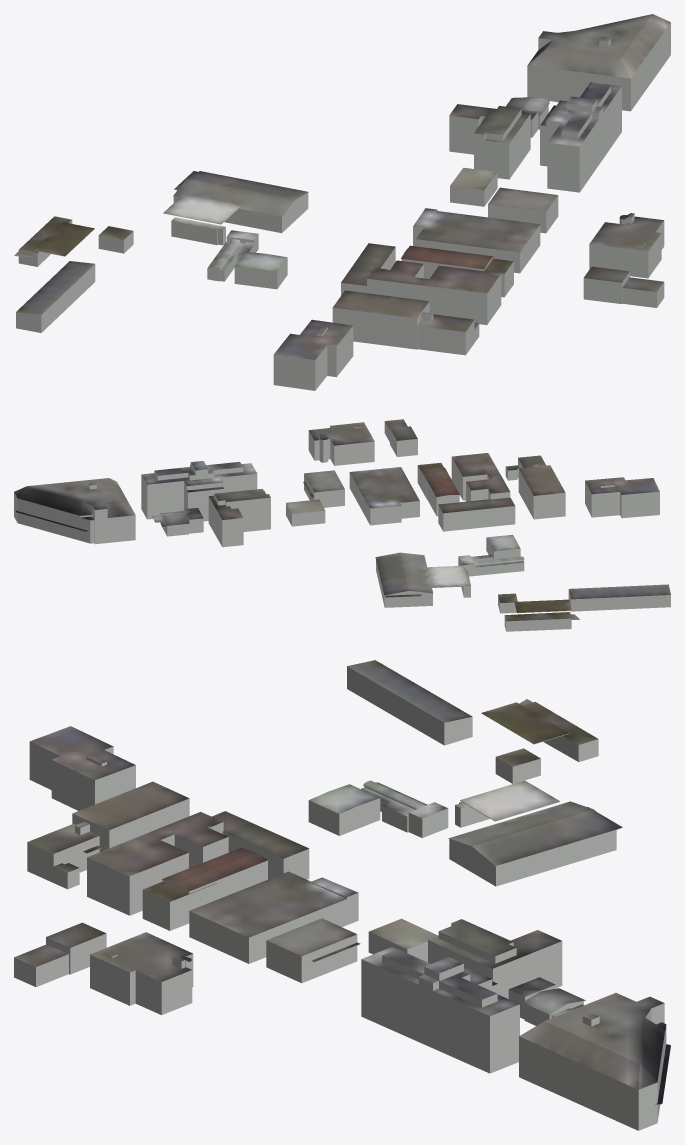
Rendered from LSZH_2_-5.glb.
3 renders of one model, top to bottom at view 1: azimuth 30°, elevation 25°; view 2: azimuth 150°, elevation 25°; view 3: azimuth 270°, elevation 25°, orthographic. The views are drawn at different scales.
Parts seen in each view (by area): view 1: building_c7800928f448700d, building_9811bbb75692ce36, building_c52892c318065b10, building_3fe551add44f6f5d, building_9d91a7fc6ffdc891, building_737cd1d2e4ba5a8d, building_a61981d5ffa7d013, building_e6580b542d869714, building_f2eeeba9485fdb26, building_b75e1be9039cc661; view 2: building_c7800928f448700d, building_9811bbb75692ce36, building_3fe551add44f6f5d, building_9d91a7fc6ffdc891, building_c52892c318065b10, building_737cd1d2e4ba5a8d, building_a61981d5ffa7d013, building_f2eeeba9485fdb26, building_e6580b542d869714, building_b75e1be9039cc661; view 3: building_9811bbb75692ce36, building_c7800928f448700d, building_3fe551add44f6f5d, building_c52892c318065b10, building_9d91a7fc6ffdc891, building_737cd1d2e4ba5a8d, building_a61981d5ffa7d013, building_f2eeeba9485fdb26, building_e6580b542d869714, building_b75e1be9039cc661.
Boxes of the visible parts, x1,y1,x2,y2 form: building_c7800928f448700d: [332, 187, 663, 332]; building_9811bbb75692ce36: [332, 196, 664, 355]; building_c52892c318065b10: [163, 104, 530, 271]; building_3fe551add44f6f5d: [527, 23, 670, 192]; building_9d91a7fc6ffdc891: [506, 14, 670, 146]; building_737cd1d2e4ba5a8d: [171, 109, 530, 289]; building_a61981d5ffa7d013: [14, 216, 133, 315]; building_e6580b542d869714: [273, 326, 353, 390]; building_f2eeeba9485fdb26: [16, 220, 133, 332]; building_b75e1be9039cc661: [274, 319, 352, 360]; building_c7800928f448700d: [303, 419, 565, 513]; building_9811bbb75692ce36: [304, 422, 565, 531]; building_3fe551add44f6f5d: [14, 463, 257, 544]; building_9d91a7fc6ffdc891: [14, 461, 257, 531]; building_c52892c318065b10: [209, 489, 524, 597]; building_737cd1d2e4ba5a8d: [208, 494, 524, 607]; building_a61981d5ffa7d013: [498, 584, 670, 621]; building_f2eeeba9485fdb26: [498, 590, 670, 631]; building_e6580b542d869714: [585, 481, 659, 518]; building_b75e1be9039cc661: [585, 477, 659, 495]; building_9811bbb75692ce36: [14, 799, 358, 1015]; building_c7800928f448700d: [14, 781, 360, 982]; building_3fe551add44f6f5d: [361, 956, 666, 1130]; building_c52892c318065b10: [309, 780, 622, 968]; building_9d91a7fc6ffdc891: [361, 947, 670, 1104]; building_737cd1d2e4ba5a8d: [308, 786, 616, 998]; building_a61981d5ffa7d013: [347, 660, 598, 767]; building_f2eeeba9485fdb26: [347, 667, 598, 783]; building_e6580b542d869714: [29, 742, 135, 810]; building_b75e1be9039cc661: [29, 726, 135, 780].
Size of the model in its own units: 401 by 31.66 by 240.
Materials: 2 (1 with a texture image).
